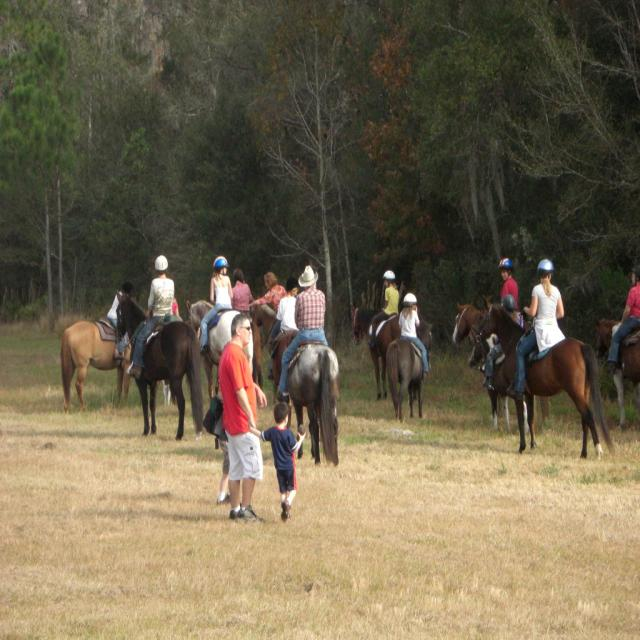Horse: (60, 290, 640, 466)
